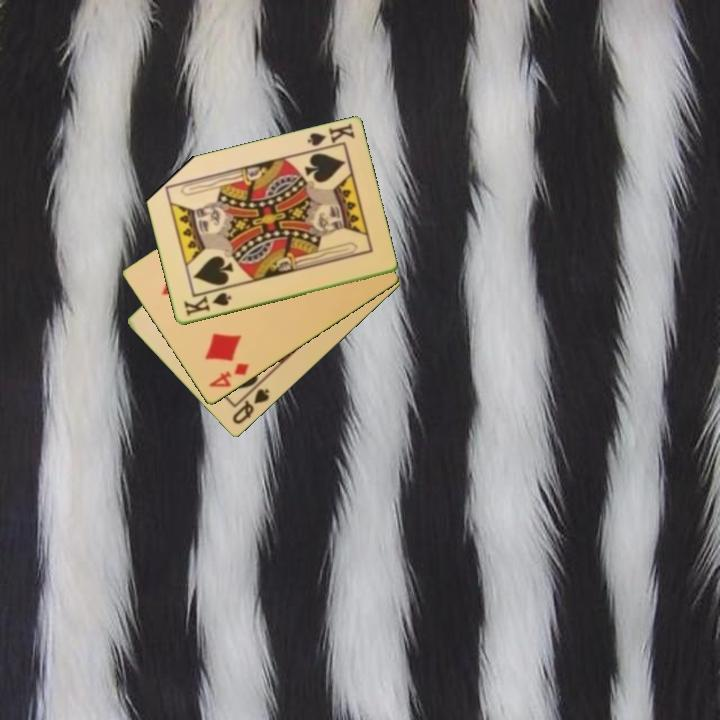4d: (205, 360, 252, 391)
Ks: (303, 120, 357, 155), (180, 289, 234, 320)
Qs: (229, 385, 273, 428)
